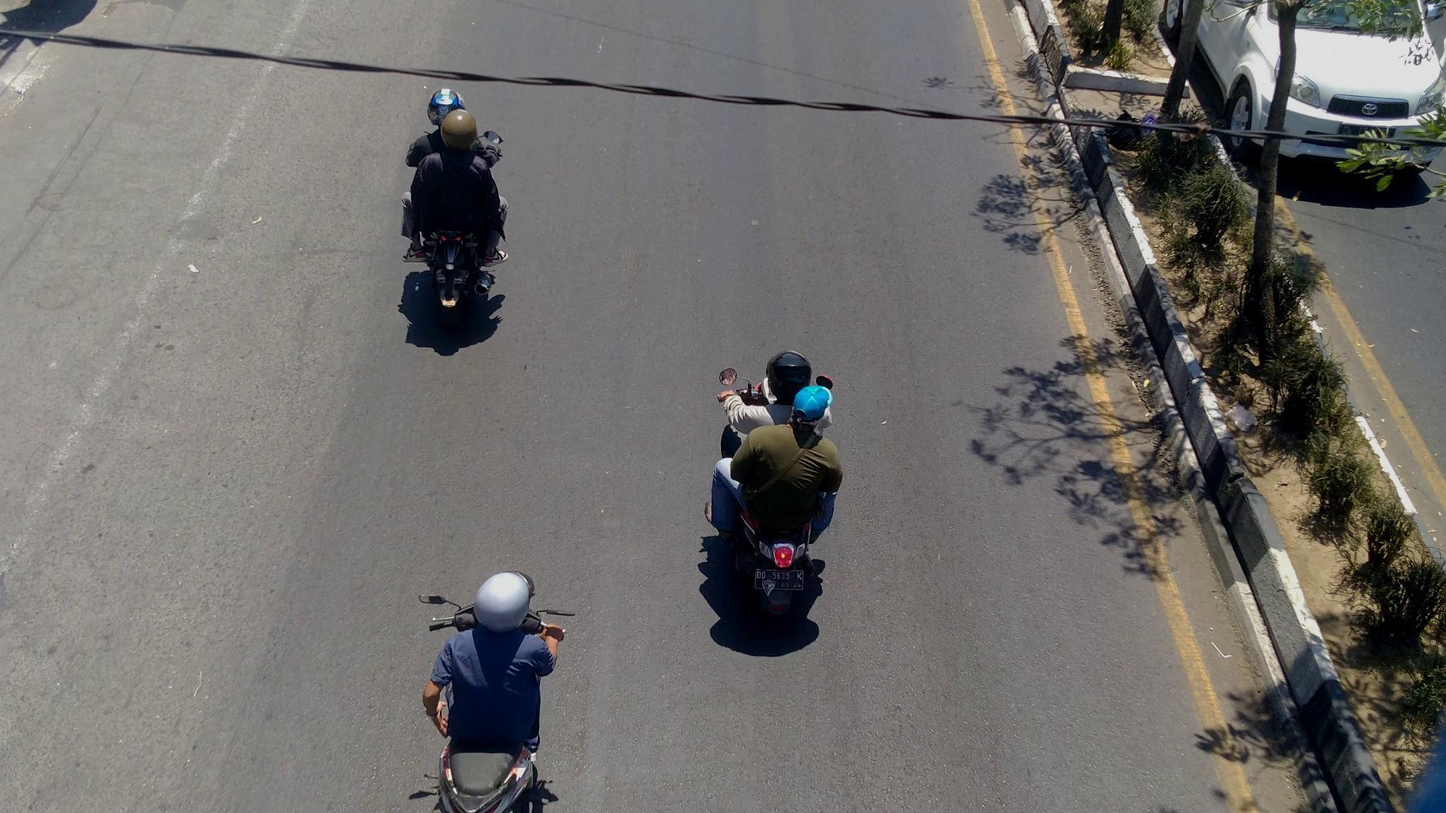Helmet: (461, 563, 540, 645), (756, 345, 818, 405), (434, 106, 481, 155), (423, 84, 470, 128)
bike: (414, 587, 581, 813), (715, 364, 838, 617), (397, 126, 510, 329)
no-helmet: (788, 380, 839, 439)
number-plate: (751, 567, 807, 591)
rider: (425, 570, 562, 752), (710, 381, 840, 549), (403, 106, 510, 263), (720, 348, 831, 439)
